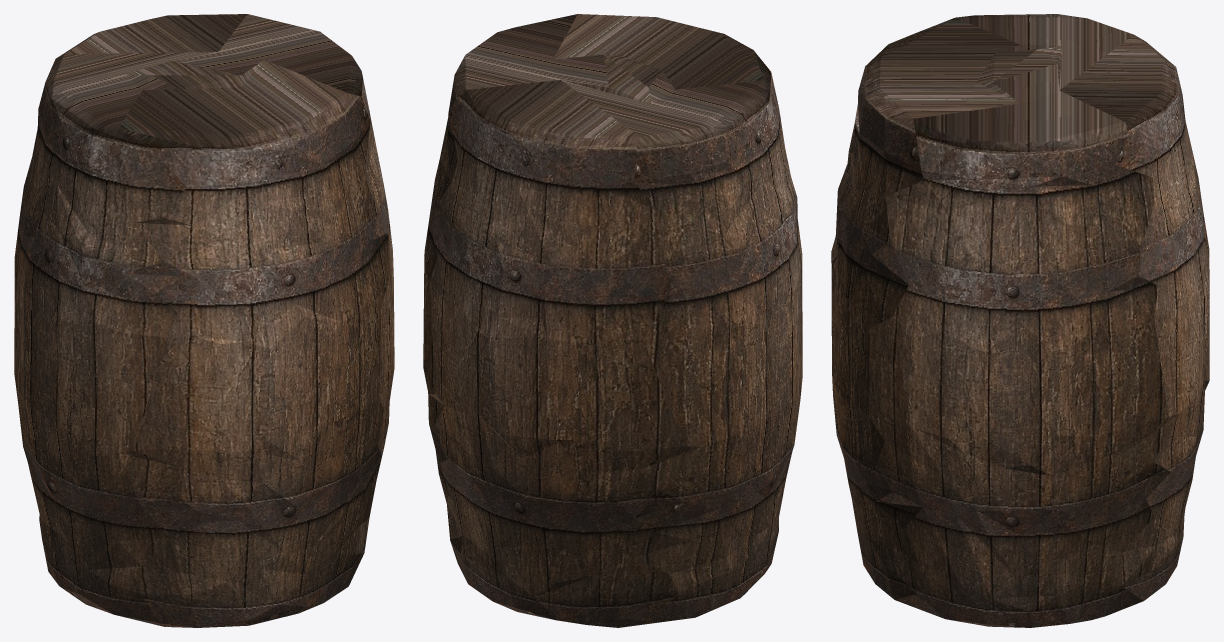
File: barrel_high.glb
3 renders of one model, left to right at view 1: azimuth 30°, elevation 25°; view 2: azimuth 150°, elevation 25°; view 3: azimuth 270°, elevation 25°, orthographic.
Parts seen in each view (by area): view 1: barrel_high; view 2: barrel_high; view 3: barrel_high.
Boxes of the visible parts, box(x1,y1,x2,y2) form: barrel_high: box(14, 14, 394, 627); barrel_high: box(423, 14, 802, 627); barrel_high: box(831, 14, 1209, 627).
Bounding box in the file's own units: 0.6387 × 0.953 × 0.6392.
1 material, 1 textured.
